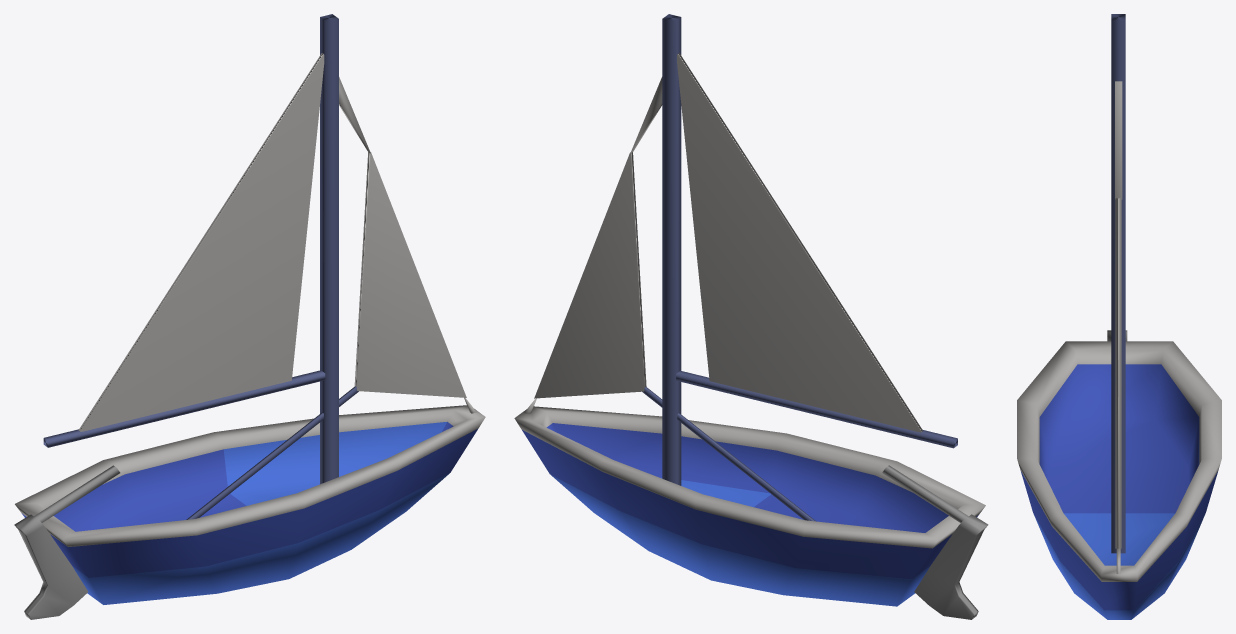
The model's file is Boat_1.fbx.
3 views of the same model, side by side, from view 1: azimuth 30°, elevation 25°; view 2: azimuth 150°, elevation 25°; view 3: azimuth 270°, elevation 25° (orthographic). The views are drawn at different scales.
Visible parts, largest first — view 1: Boat_1; view 2: Boat_1; view 3: Boat_1.
Boxes of the visible parts, left/top/right/bottom form: Boat_1: left=14, top=14, right=485, bottom=619; Boat_1: left=514, top=14, right=988, bottom=619; Boat_1: left=1017, top=14, right=1221, bottom=619.
Size of the model in its own units: 529 by 582 by 184.
Materials: 1 (1 with a texture image).
